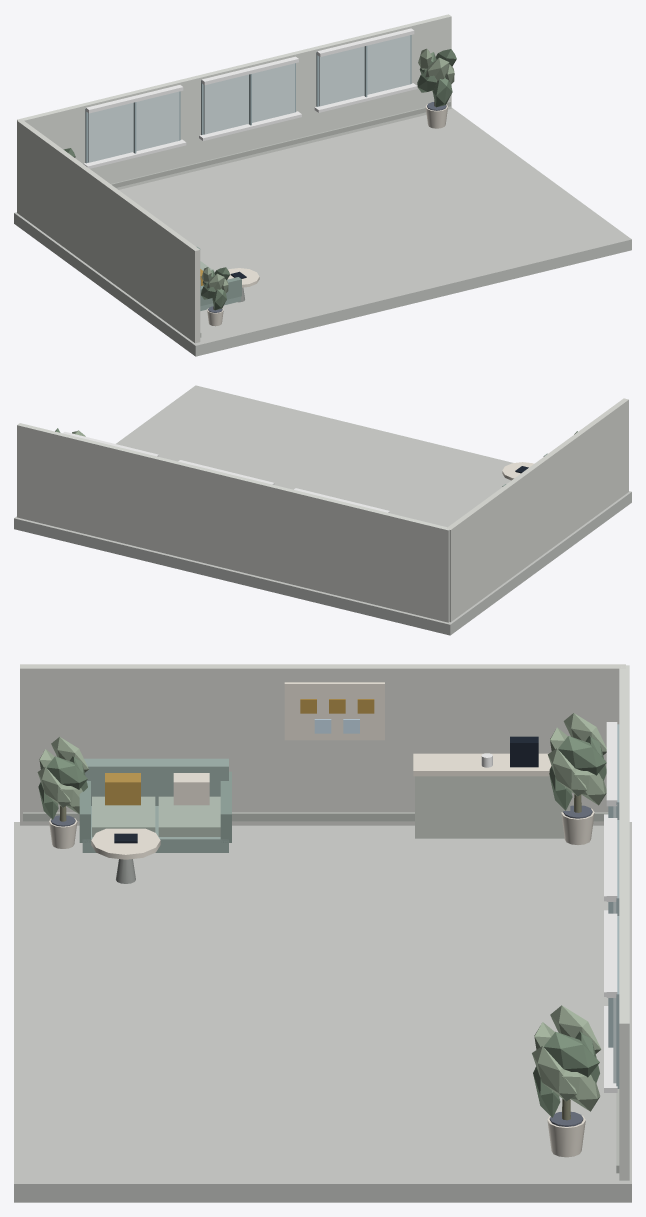
Rendered from room.gltf.
3 views of the same model, one above another, from view 1: azimuth 30°, elevation 25°; view 2: azimuth 150°, elevation 25°; view 3: azimuth 270°, elevation 25° (orthographic). The views are drawn at different scales.
Visible parts, largest first — view 1: floor, wall-left, wall-back, window-1-glass, window-3-glass, window-2-glass, room-plant-1, window-3-frame, window-1-frame, window-2-frame, room-plant-2, lounge-sofa; view 2: wall-back, floor, wall-left; view 3: floor, wall-left, lounge-sofa, storage, room-plant-1, pinboard, wall-back, room-plant-3, room-plant-2, window-3-frame, lounge-table, window-1-frame (+2 smaller).
Part boxes in pixels (box(x1,y1,x2,y2)): floor: box(14, 108, 631, 356); wall-left: box(17, 119, 201, 343); wall-back: box(17, 14, 451, 189); window-1-glass: box(88, 91, 179, 162); window-3-glass: box(319, 35, 410, 106); window-2-glass: box(203, 63, 294, 134); room-plant-1: box(417, 48, 456, 128); window-3-frame: box(314, 28, 417, 112); window-1-frame: box(83, 85, 186, 168); window-2-frame: box(199, 56, 301, 140); room-plant-2: box(201, 267, 229, 326); lounge-sofa: box(196, 246, 241, 310); wall-back: box(17, 423, 450, 622); floor: box(14, 385, 631, 635); wall-left: box(446, 398, 628, 622); floor: box(14, 822, 631, 1202); wall-left: box(20, 664, 625, 825); lounge-sofa: box(79, 758, 231, 852); storage: box(413, 753, 570, 838); room-plant-1: box(532, 1005, 601, 1157); pinboard: box(284, 682, 384, 740); wall-back: box(616, 665, 629, 1180); room-plant-3: box(547, 713, 606, 844); room-plant-2: box(37, 736, 88, 848); window-3-frame: box(604, 913, 619, 1092); lounge-table: box(91, 828, 160, 883); window-1-frame: box(604, 722, 619, 901).
Size of the model in its own units: 14.35 by 3.27 by 10.35.
